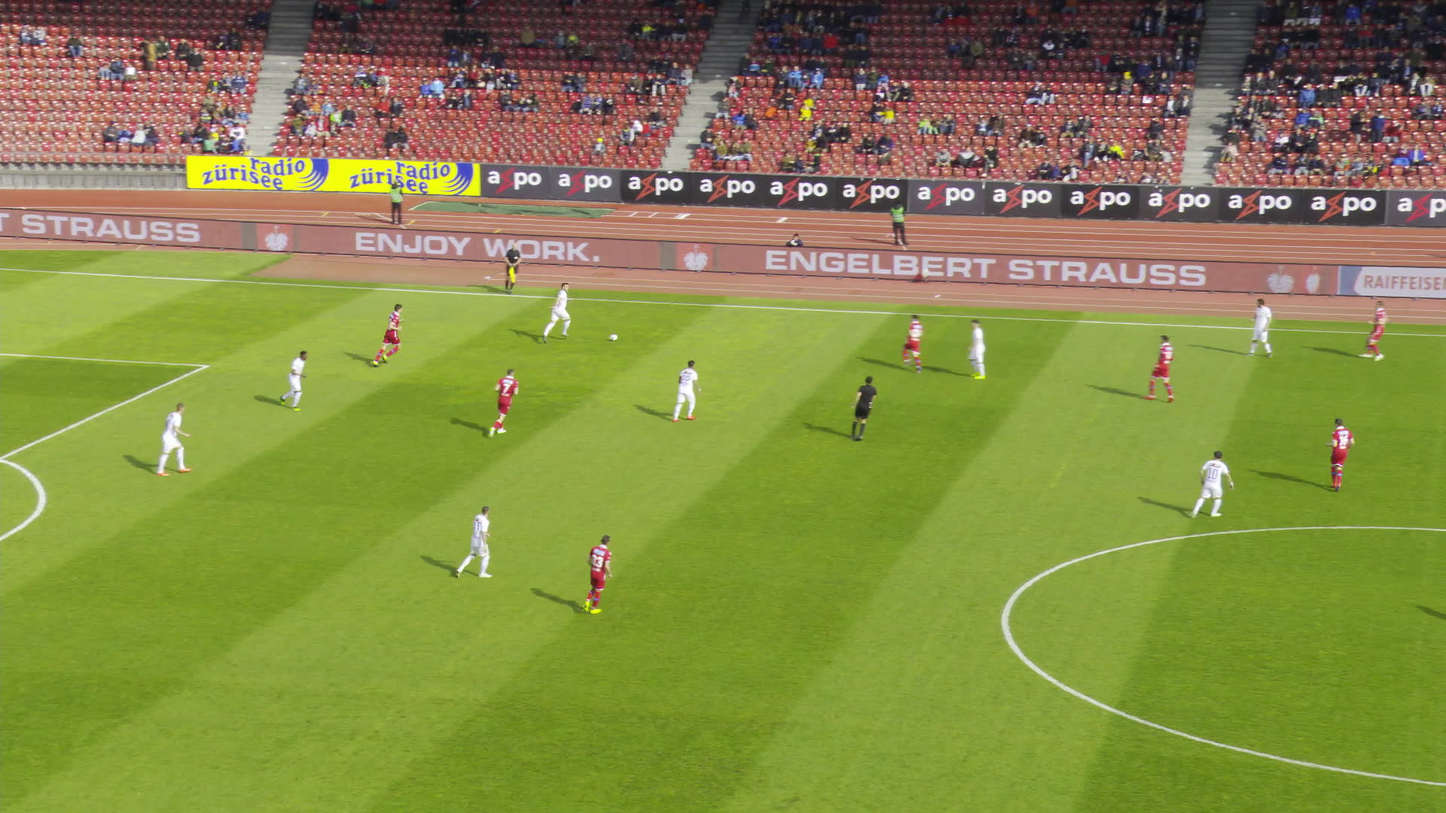ball: (610, 334, 616, 340)
player: (576, 532, 618, 620), (457, 500, 502, 580), (1193, 449, 1238, 522), (152, 400, 192, 476), (1322, 415, 1359, 492), (1355, 295, 1395, 362), (1146, 332, 1184, 401), (487, 367, 524, 437), (370, 303, 409, 369), (963, 318, 1000, 379), (279, 344, 312, 409), (898, 314, 933, 372), (674, 358, 703, 424), (1248, 295, 1276, 360), (544, 282, 572, 342)
referee: (850, 374, 883, 443), (505, 241, 528, 294)
